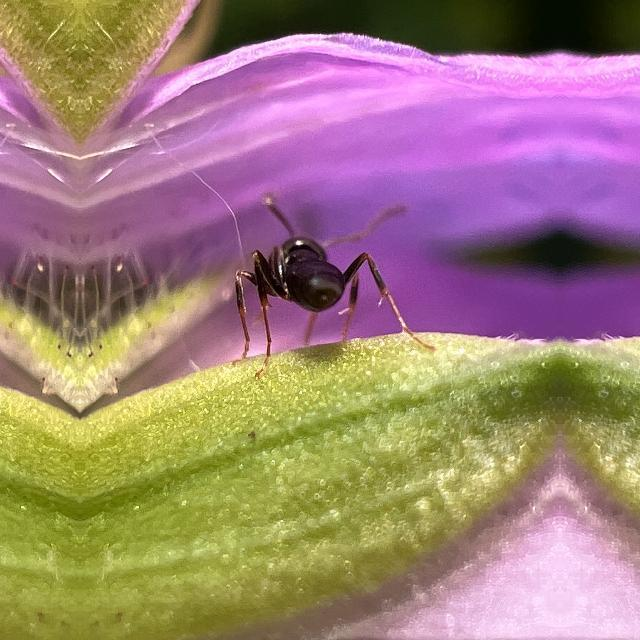Tapinoma: (211, 190, 395, 360)
